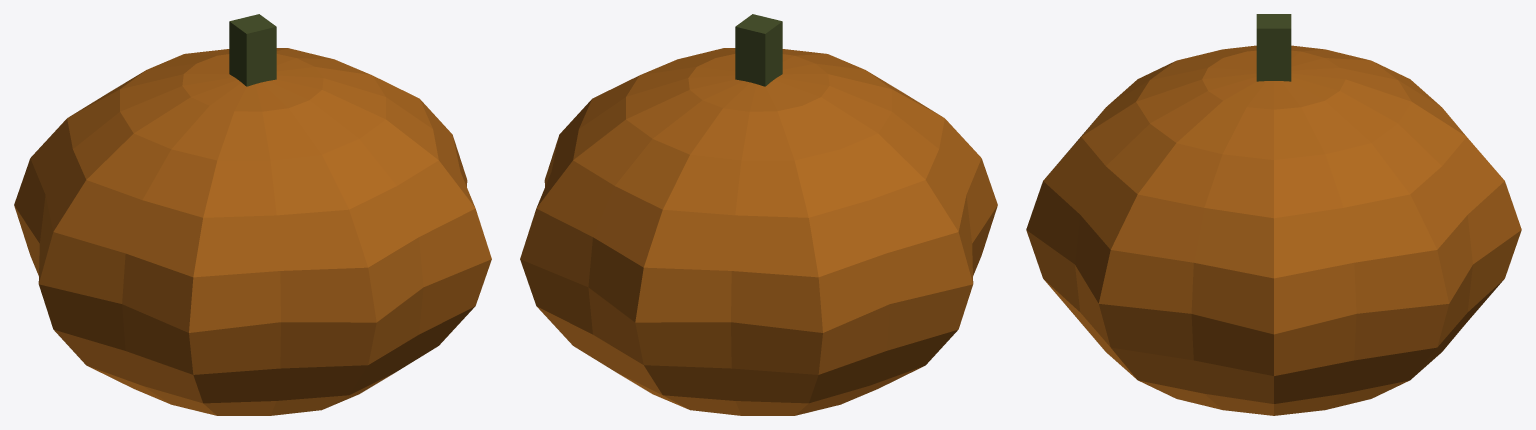
Rendered from pumpkin_prize_large.glb.
The picture shows the model from 3 angles, left to right: view 1: azimuth 30°, elevation 25°; view 2: azimuth 150°, elevation 25°; view 3: azimuth 270°, elevation 25°; orthographic projection.
Visible parts, largest first — view 1: Pumpkin; view 2: Pumpkin; view 3: Pumpkin.
Part boxes in pixels (<box>): Pumpkin: <box>14,14,491,415</box>; Pumpkin: <box>520,14,997,415</box>; Pumpkin: <box>1026,14,1521,415</box>.
Size of the model in its own units: 2 by 1.63 by 2.
